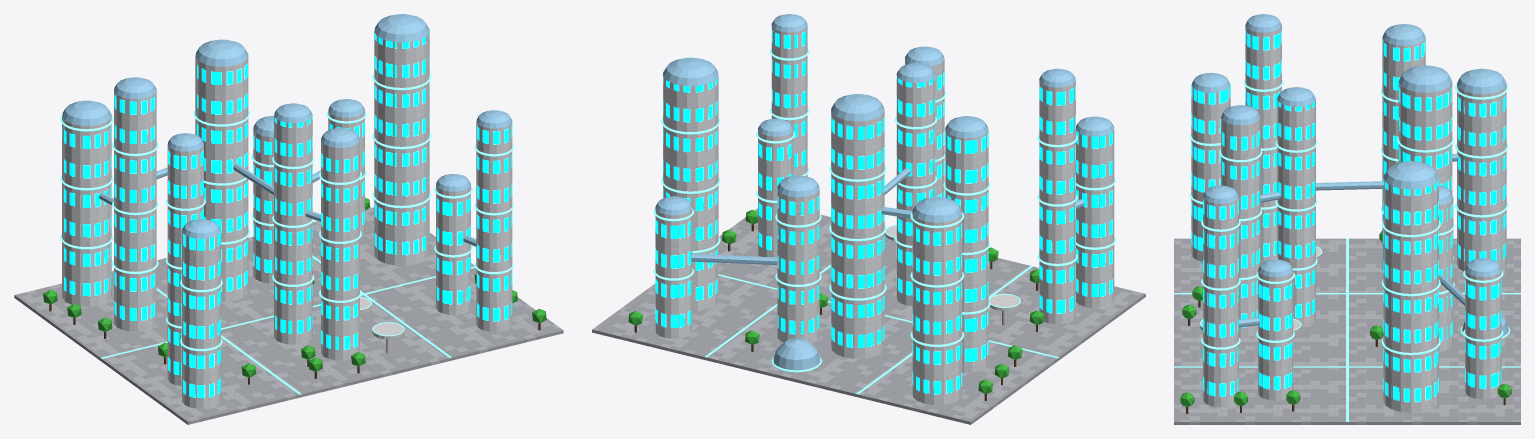
File: Ville_08.glb
3 views of the same model, side by side, from view 1: azimuth 30°, elevation 25°; view 2: azimuth 150°, elevation 25°; view 3: azimuth 270°, elevation 25° (orthographic).
Parts seen in each view (by area): view 1: Ville_08; view 2: Ville_08; view 3: Ville_08.
Boxes of the visible parts, x1,y1,x2,y2 form: Ville_08: [14, 14, 563, 424]; Ville_08: [592, 14, 1145, 424]; Ville_08: [1174, 14, 1520, 424].
Size of the model in its own units: 40 by 25.49 by 32.
Materials: 7 (4 with a texture image).
